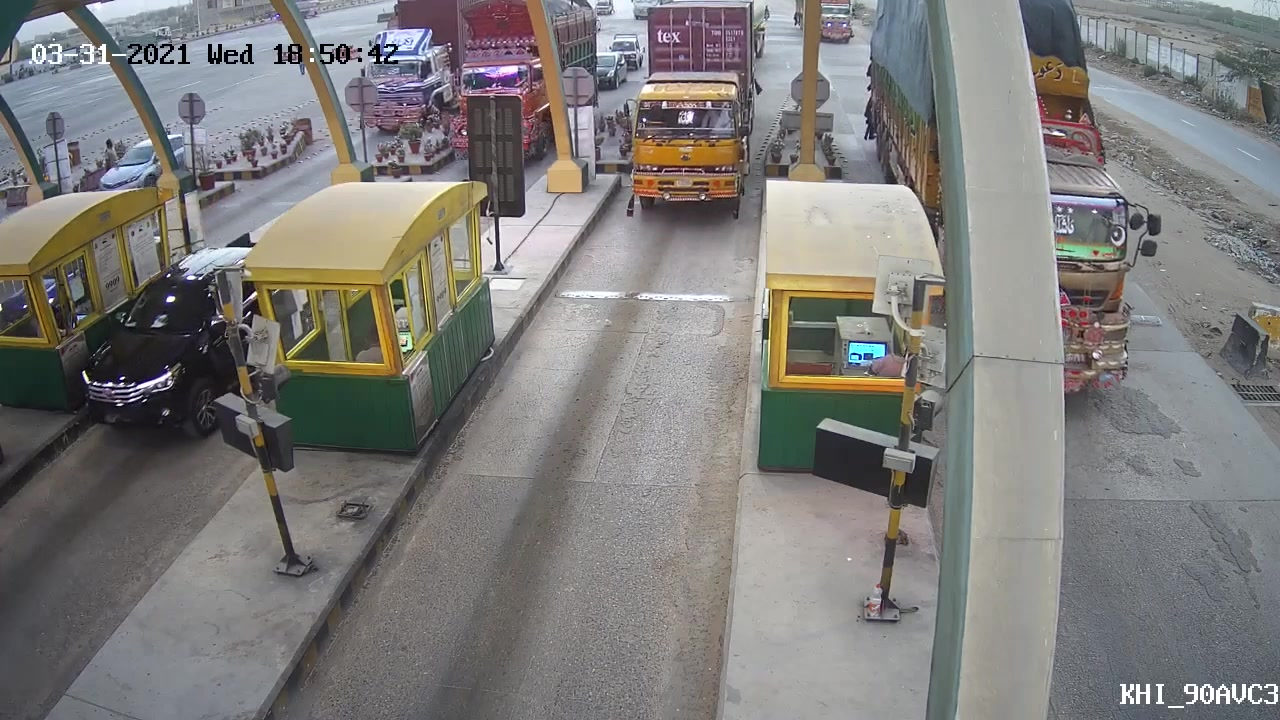F6: (608, 1, 766, 231)
